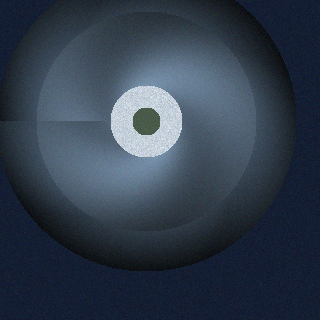cyclone_body: (30, 5, 261, 236)
cyclone_eye: (131, 106, 161, 136)
